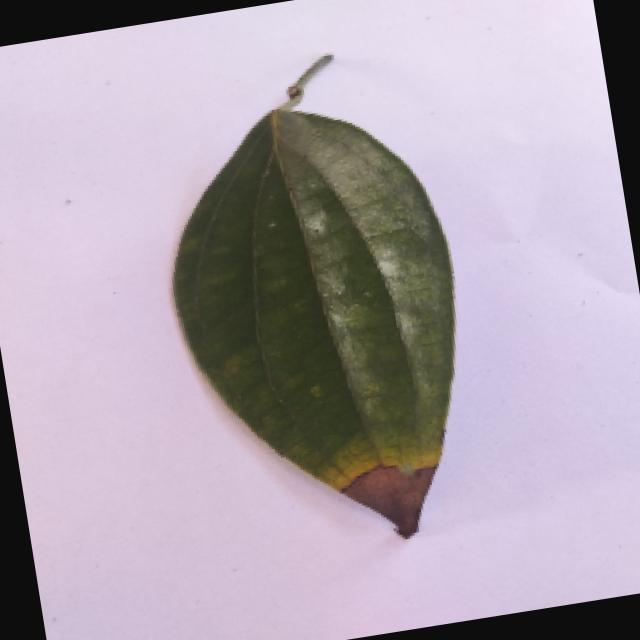footrot: (119, 38, 514, 570)
